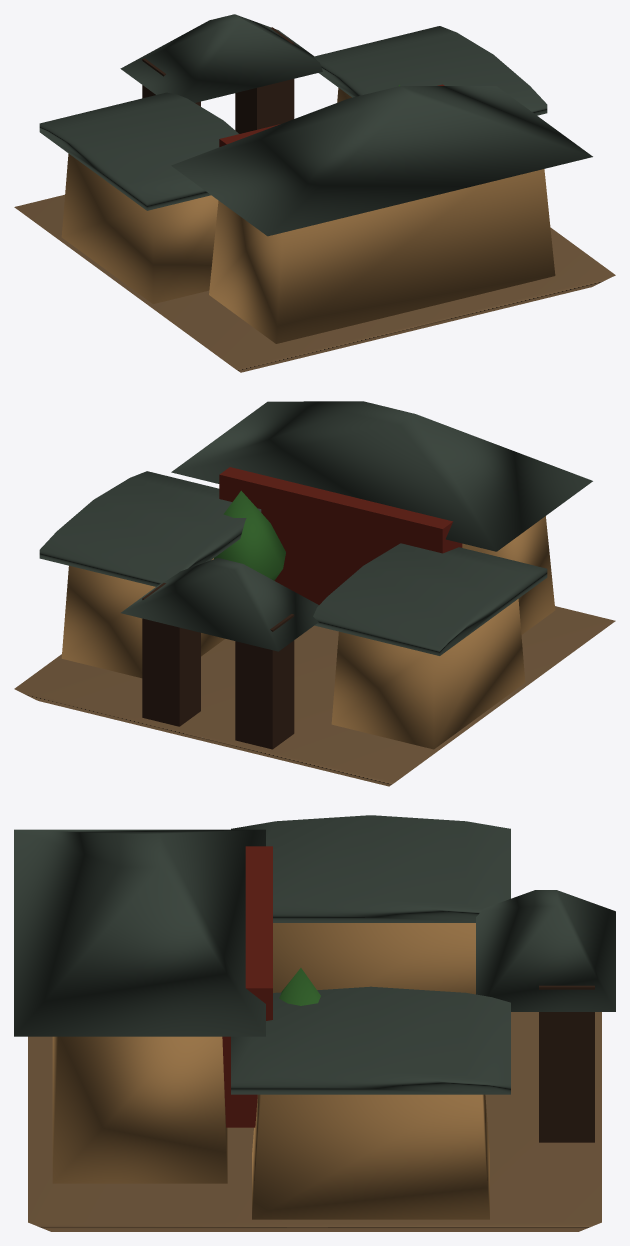
Rendered from R36_HAN_LUOYANG_URBAN_SCHOOL_COURTYARD_A.fbx.
3 renders of one model, top to bottom at view 1: azimuth 30°, elevation 25°; view 2: azimuth 150°, elevation 25°; view 3: azimuth 270°, elevation 25°, orthographic. The views are drawn at different scales.
Visible parts, largest first — view 1: hall, hall_roof, courtyard, study_e, study_roof_e, gate_roof, study_roof_w, gate_w; view 2: hall_roof, courtyard, study_e, study_roof_e, study_roof_w, hall_front, gate_roof, study_w, gate_e, gate_w, hall, tree; view 3: hall_roof, courtyard, study_w, study_roof_w, hall, study_roof_e, gate_roof, study_e, gate_w, hall_front, tree.
Boxes of the visible parts, <box> form: hall: <box>209,169,555,343</box>; hall_roof: <box>171,86,592,236</box>; courtyard: <box>14,194,615,372</box>; study_e: <box>61,153,218,304</box>; study_roof_e: <box>39,92,238,210</box>; gate_roof: <box>120,14,322,102</box>; study_roof_w: <box>313,26,547,115</box>; gate_w: <box>235,27,294,133</box>; hall_roof: <box>171,401,592,551</box>; courtyard: <box>14,606,615,786</box>; study_e: <box>331,599,525,749</box>; study_roof_e: <box>313,543,547,655</box>; study_roof_w: <box>39,471,261,586</box>; hall_front: <box>219,467,462,604</box>; gate_roof: <box>121,558,318,651</box>; study_w: <box>61,558,224,678</box>; gate_e: <box>235,614,294,749</box>; gate_w: <box>142,583,200,726</box>; hall: <box>462,516,555,634</box>; tree: <box>214,490,285,580</box>; hall_roof: <box>14,829,265,1036</box>; courtyard: <box>28,1012,601,1231</box>; study_w: <box>252,1094,489,1219</box>; study_roof_w: <box>231,986,510,1094</box>; hall: <box>52,1036,227,1183</box>; study_roof_e: <box>231,815,510,922</box>; gate_roof: <box>476,890,615,1011</box>; study_e: <box>273,923,475,994</box>; gate_w: <box>539,985,594,1142</box>; hall_front: <box>222,846,272,1127</box>; tree: <box>279,968,320,1005</box>.
Bounding box in the file's own units: 86 × 42.5 × 86.
